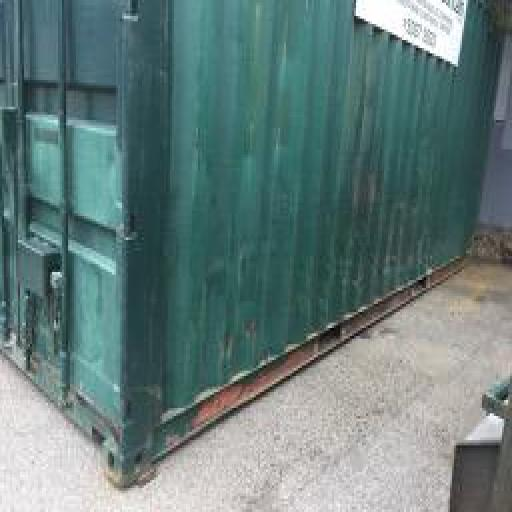corrosion: (150, 247, 454, 453)
